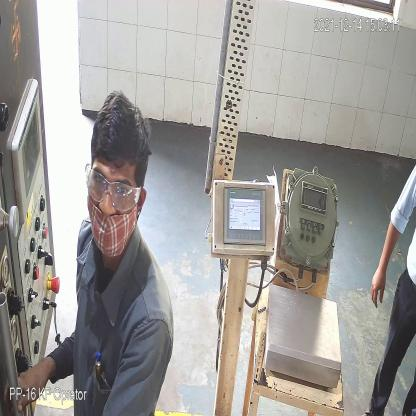goggles: (82, 166, 137, 209)
no_glove: (368, 215, 406, 314)
